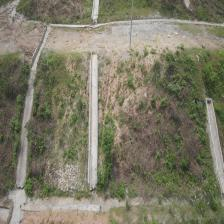rock toe: (57, 162, 84, 193)
slope drain: (15, 24, 51, 192), (206, 97, 224, 207), (88, 54, 99, 190)
